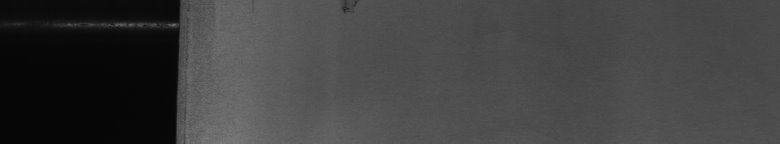fi: (336, 4, 357, 20)
